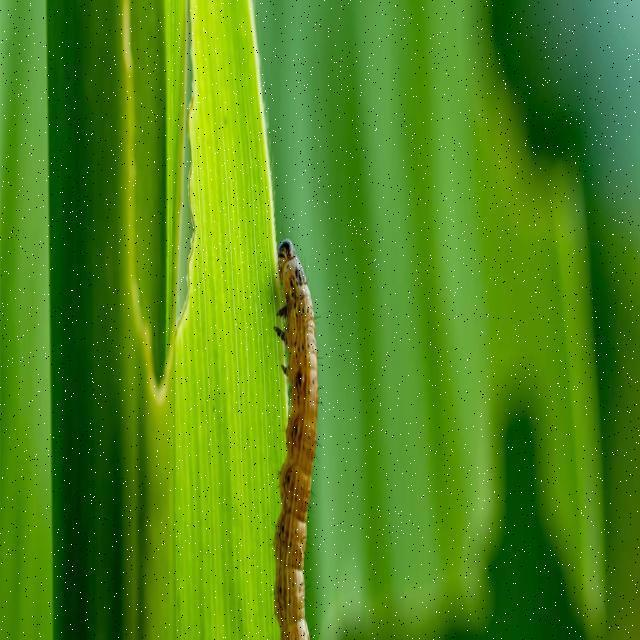army worm: (247, 161, 355, 640)
